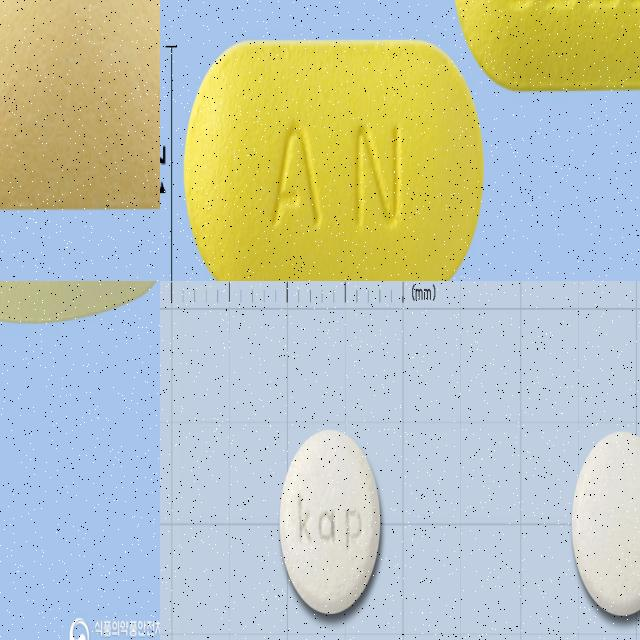Lebofacin: (279, 428, 382, 616), (571, 429, 640, 615)
Luarva: (0, 0, 160, 211)
New Clato Tab: (183, 40, 481, 281), (451, 0, 640, 90)
